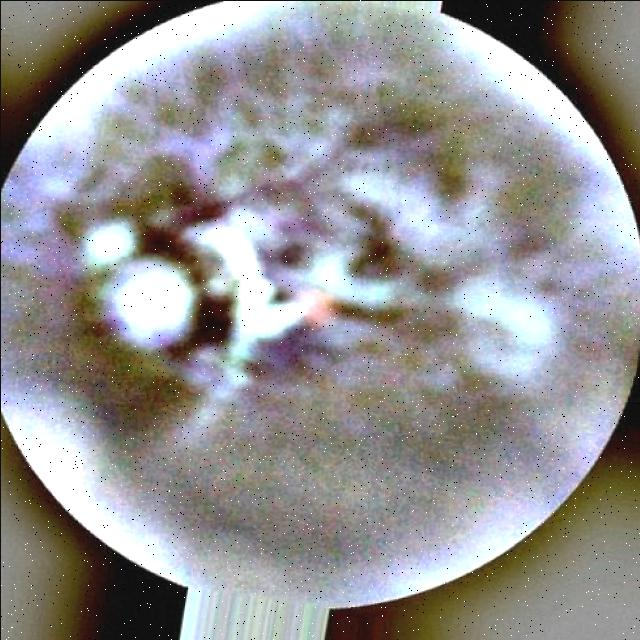Nerves: (143, 198, 227, 345)
Optic Disk: (103, 259, 195, 349)
